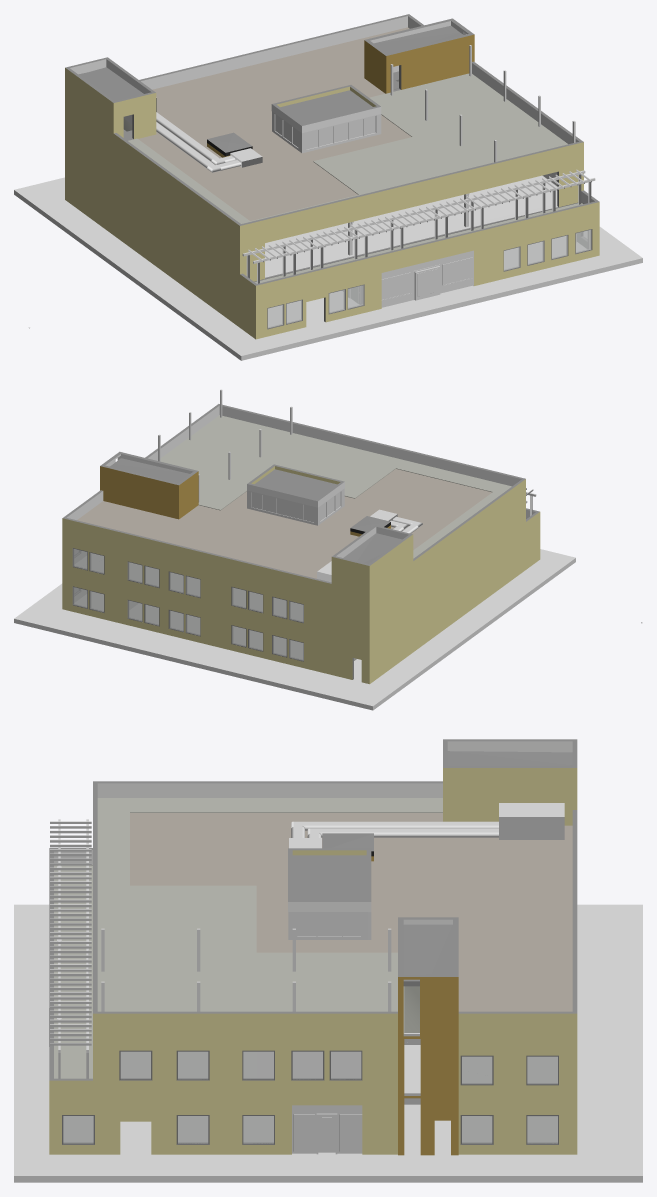
The model's file is Lobby.fbx.
3 views of the same model, one above another, from view 1: azimuth 30°, elevation 25°; view 2: azimuth 150°, elevation 25°; view 3: azimuth 270°, elevation 25° (orthographic). The views are drawn at different scales.
Parts seen in each view (by area): view 1: Walls, Floors, Cube, Plane.001, Roofs, Structural Framing, Windows, Structural Columns, Window.017, Ducts.001, LobbyWalls, LobbyUpperFloor_Floor.002 (+2 smaller); view 2: Walls, Floors, Cube, Windows, Roofs, Plane, Window.017, LobbyUpperFloor_Floor.002, Structural Columns; view 3: Floors, Walls, Cube, Windows, Roofs, Structural Framing, Plane.001, Ducts.001, Mechanical Equipment, Plane, Window.017, Structural Columns (+5 smaller).
Boxes of the visible parts, <box> form: Walls: <box>65,14,599,339</box>; Floors: <box>123,27,583,283</box>; Cube: <box>14,177,642,360</box>; Plane.001: <box>265,175,557,277</box>; Roofs: <box>78,25,558,278</box>; Structural Framing: <box>242,169,595,263</box>; Windows: <box>267,229,592,329</box>; Structural Columns: <box>246,45,591,297</box>; Window.017: <box>275,114,375,149</box>; Ducts.001: <box>156,112,241,170</box>; LobbyWalls: <box>342,250,473,307</box>; LobbyUpperFloor_Floor.002: <box>272,111,381,153</box>; Walls: <box>62,404,540,684</box>; Floors: <box>77,415,511,578</box>; Cube: <box>14,549,575,710</box>; Windows: <box>72,548,303,661</box>; Roofs: <box>110,458,402,564</box>; Plane: <box>75,553,303,620</box>; Window.017: <box>252,492,340,522</box>; LobbyUpperFloor_Floor.002: <box>247,488,344,525</box>; Structural Columns: <box>158,389,532,516</box>; Floors: <box>54,798,572,1078</box>; Walls: <box>49,739,577,1155</box>; Cube: <box>14,904,642,1182</box>; Windows: <box>62,1050,558,1144</box>; Roofs: <box>292,751,572,986</box>; Structural Framing: <box>50,819,420,1104</box>; Plane.001: <box>121,1052,360,1077</box>; Ducts.001: <box>291,821,498,837</box>; Mechanical Equipment: <box>289,803,564,848</box>; Plane: <box>404,1045,557,1093</box>; Window.017: <box>297,913,360,936</box>; Structural Columns: <box>57,866,391,1078</box>.
Size of the model in its own units: 4865 by 1280 by 3511.
